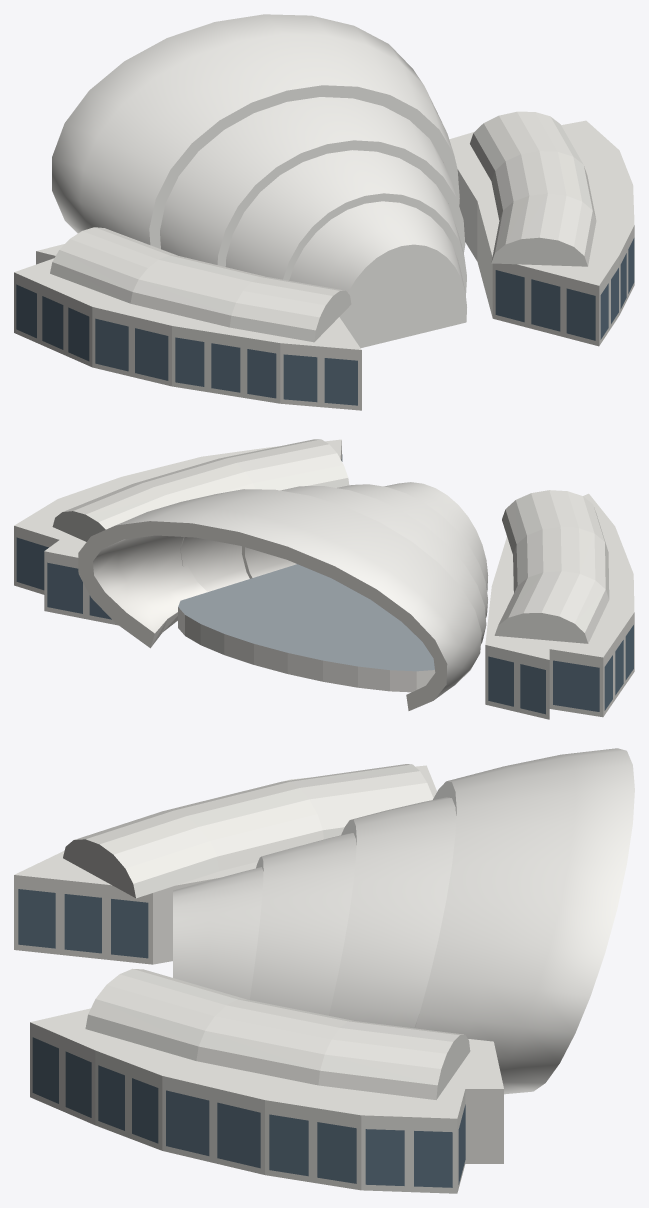
File: sd-rady-shell.glb
3 views of the same model, one above another, from view 1: azimuth 30°, elevation 25°; view 2: azimuth 150°, elevation 25°; view 3: azimuth 270°, elevation 25° (orthographic). The views are drawn at different scales.
Visible parts, largest first — view 1: The Rady Shell at Jacobs Park; view 2: The Rady Shell at Jacobs Park; view 3: The Rady Shell at Jacobs Park.
Boxes of the visible parts, x1,y1,x2,y2 form: The Rady Shell at Jacobs Park: [14, 14, 634, 410]; The Rady Shell at Jacobs Park: [14, 439, 634, 719]; The Rady Shell at Jacobs Park: [14, 748, 634, 1193].
Bounding box in the file's own units: 62.62 × 18.4 × 46.5.
